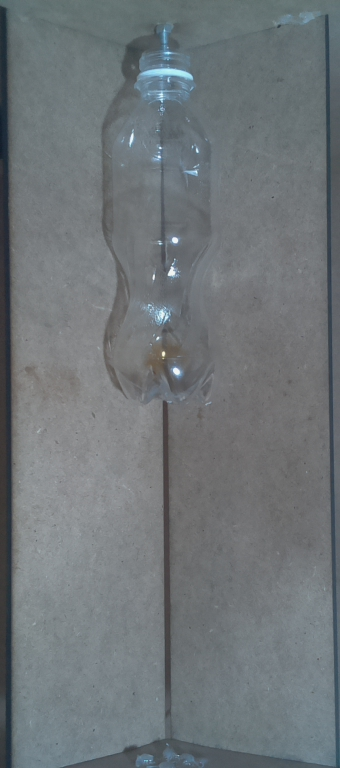Bouteille_0.3L: (97, 33, 233, 421)
